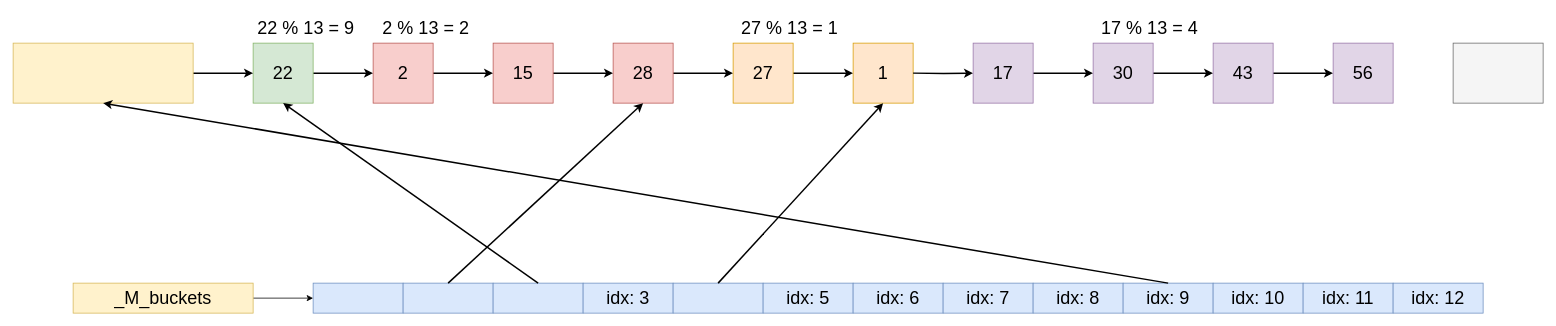
The diagram is 1556 pixels wide and 326 high, and some of its shapes have lost their labels. Each missing label, with the box of its shape:
_M_before_begin: (12, 42, 193, 103)
idx: 0: (312, 282, 403, 313)
idx: 1: (402, 282, 493, 313)
idx: 2: (492, 282, 583, 313)
idx: 4: (672, 282, 763, 313)
nullptr: (1452, 42, 1543, 103)
